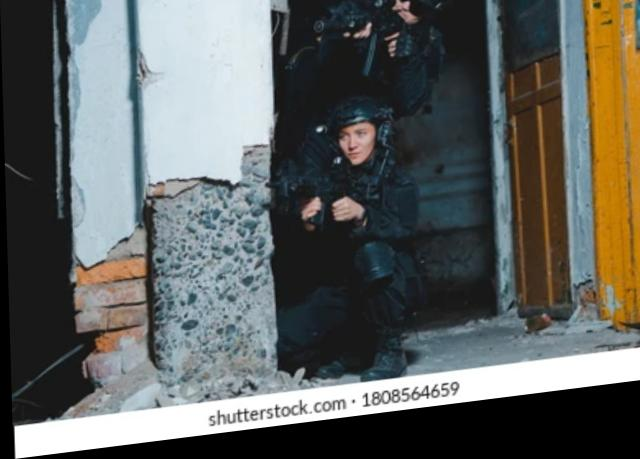other: (270, 96, 419, 370)
